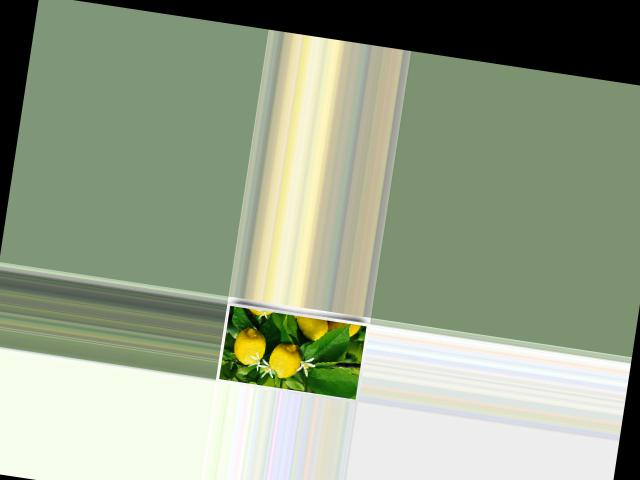lemon: (266, 339, 302, 382)
